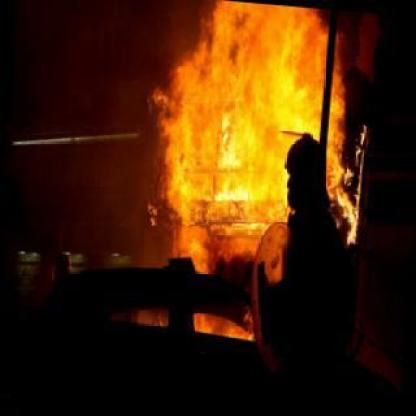Fire: (154, 0, 358, 273), (193, 310, 252, 340)
